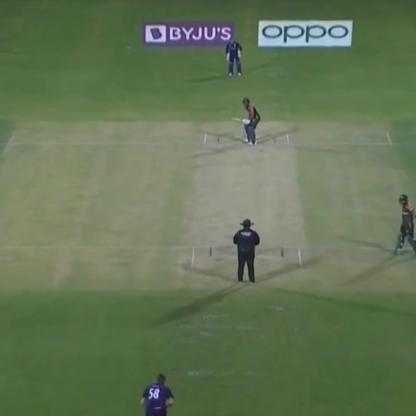bat: (224, 115, 247, 124)
pitch: (192, 129, 304, 274)
